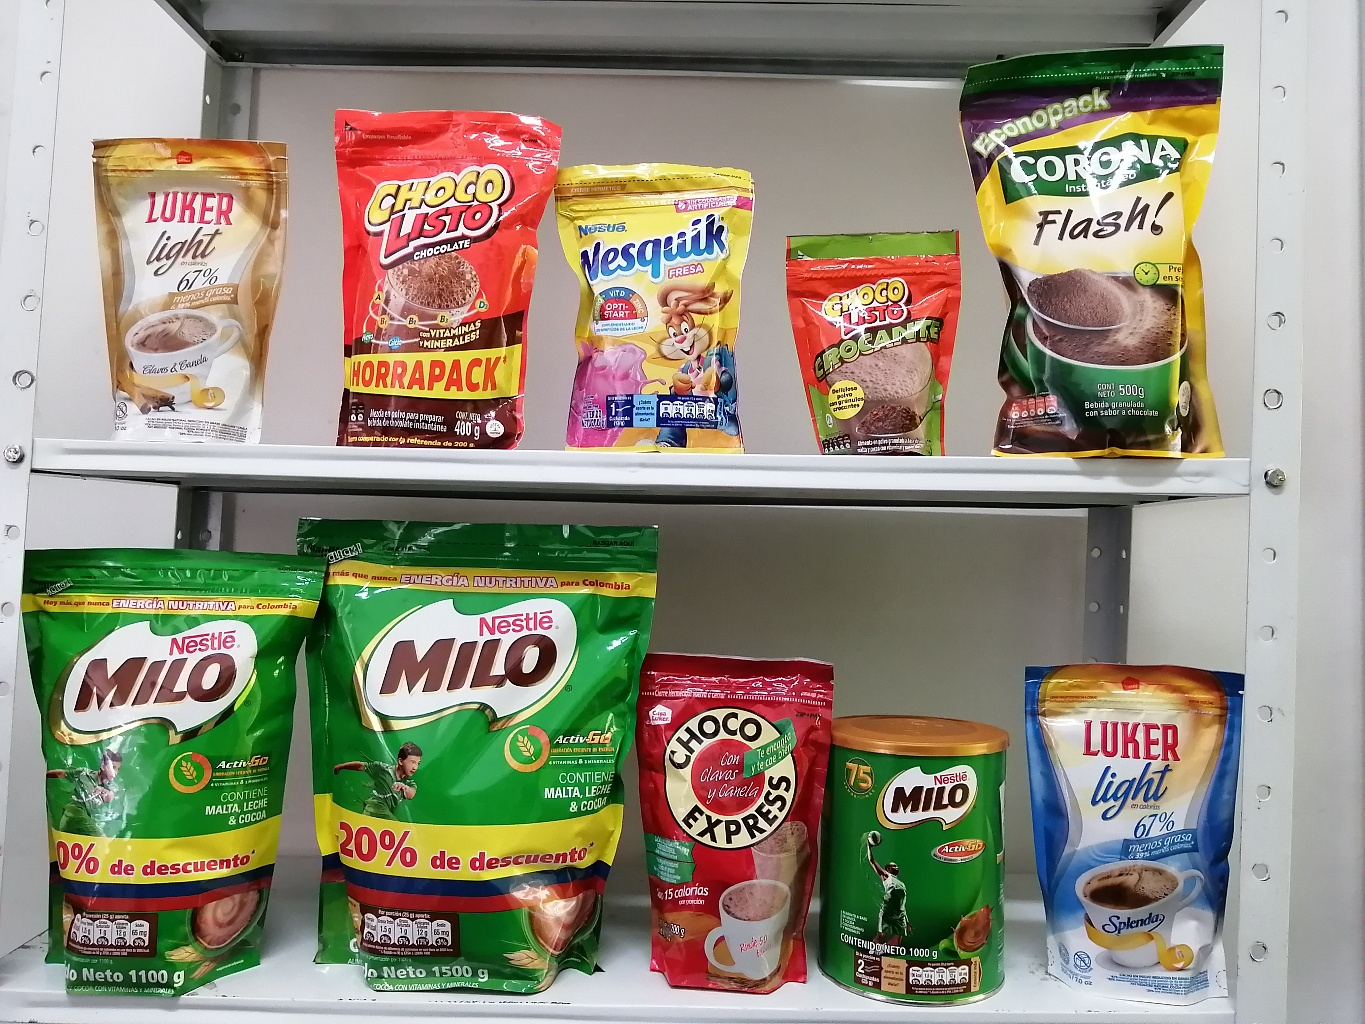COL0170102DYP10000: (788, 212, 969, 453)
COL0170103DYP40000: (327, 102, 565, 453)
COL0170305DYP20000: (573, 160, 769, 447)
